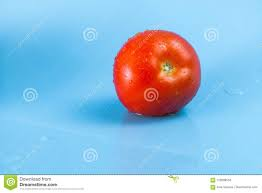tomato: (113, 30, 202, 115)
